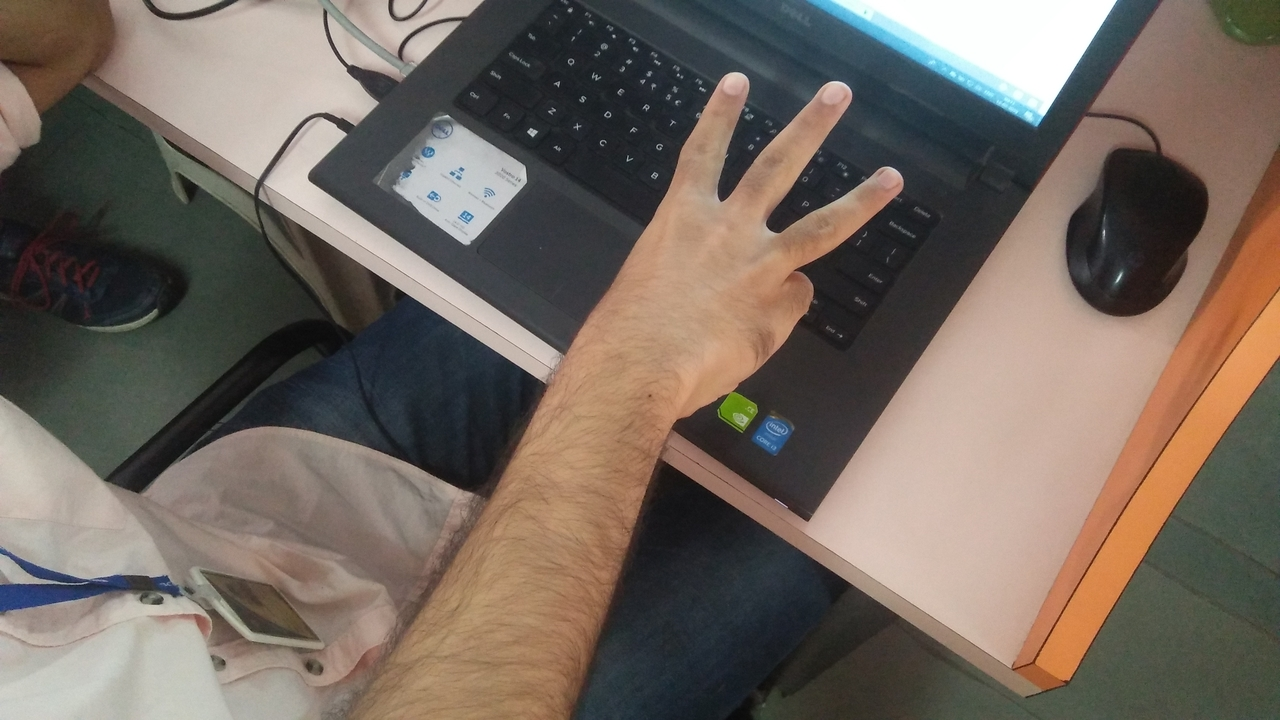fingertip: (796, 68, 864, 118), (856, 160, 908, 210), (702, 60, 758, 106)
